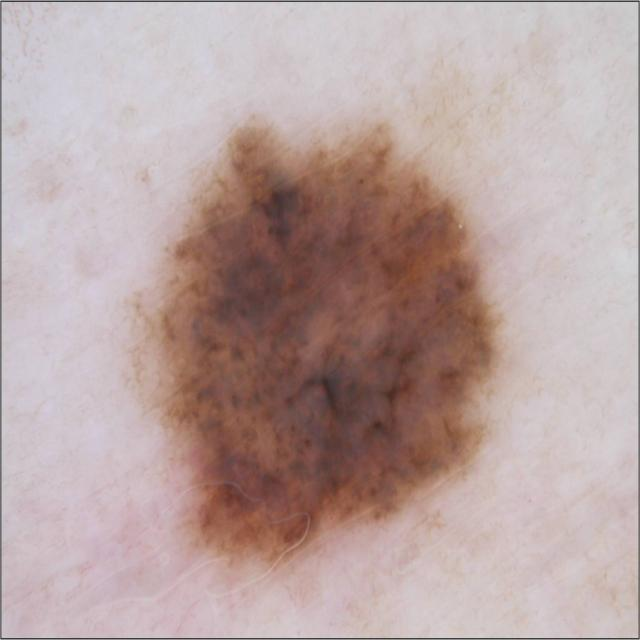Benign: (134, 108, 499, 586)
